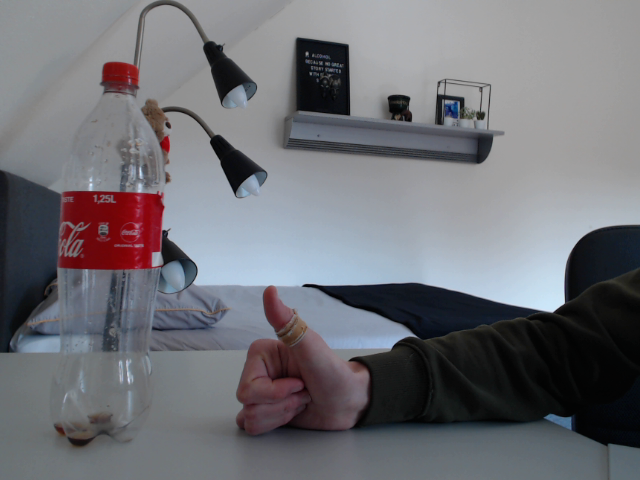bottle: (51, 62, 161, 448)
